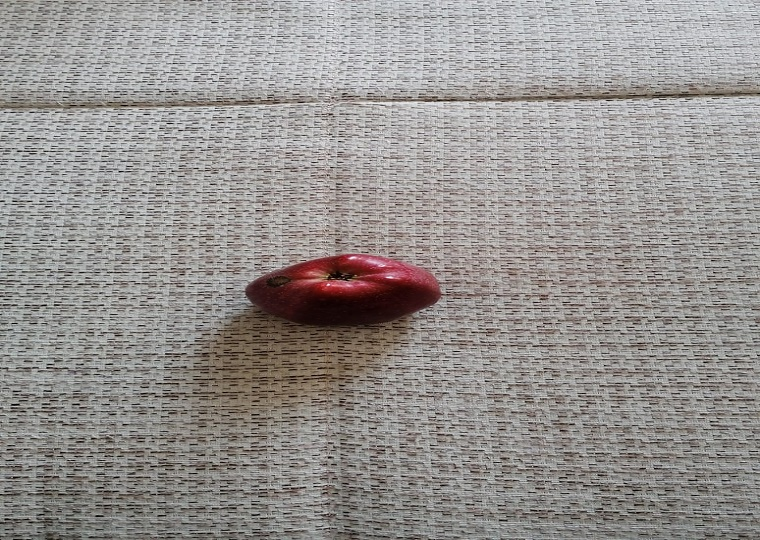elma: (242, 252, 443, 329)
